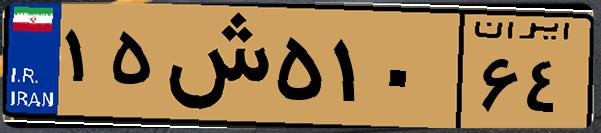0: (385, 28, 445, 110)
1: (330, 28, 385, 110), (57, 26, 110, 100)
4: (525, 38, 570, 115)
5: (270, 28, 330, 110), (110, 28, 158, 98)
6: (475, 38, 525, 113)
ش: (158, 12, 270, 120)
